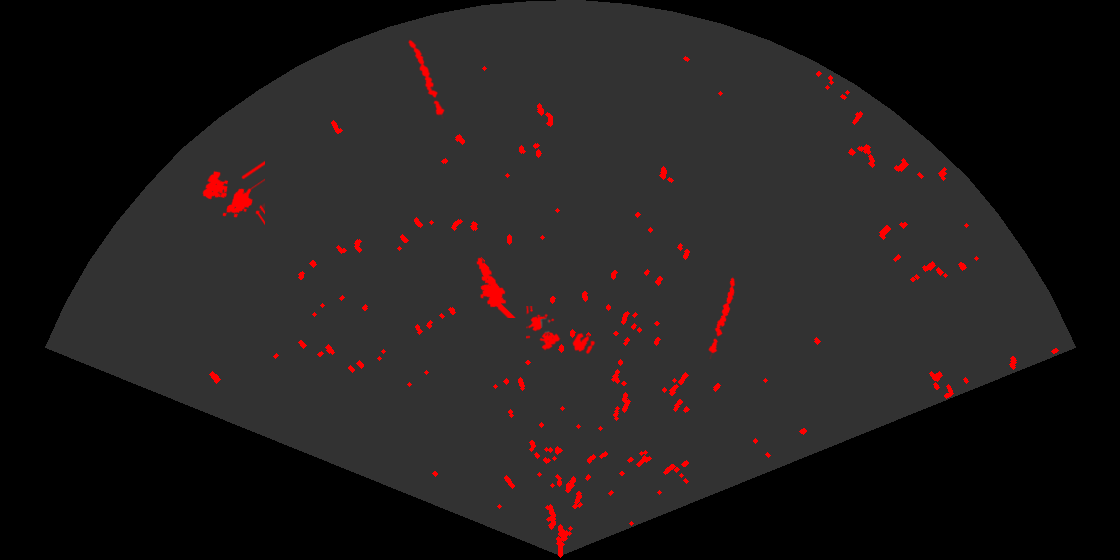ball: (571, 331, 597, 356)
cage: (201, 159, 265, 227), (526, 306, 562, 352)
chain: (407, 38, 446, 119), (707, 275, 737, 359)
frogman: (475, 256, 517, 318)
